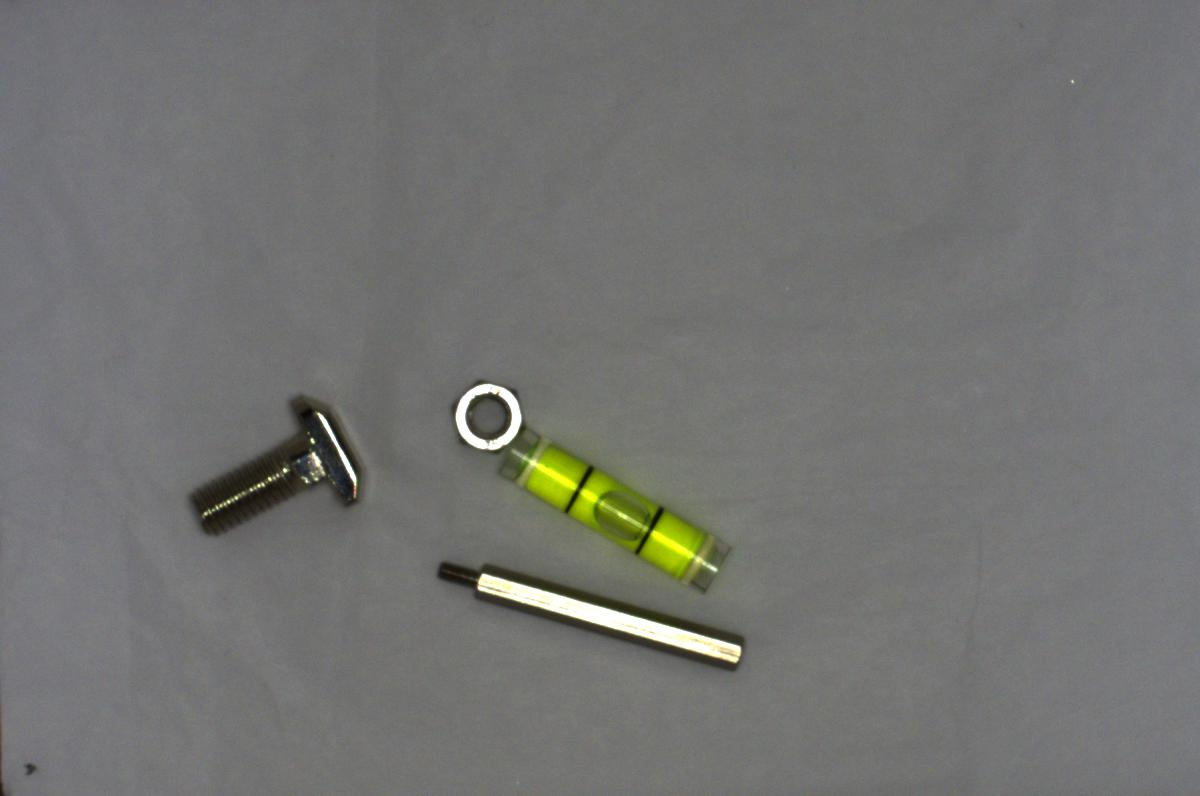Hexagon nut: (442, 372, 528, 454)
Hexagonal steel column: (433, 556, 750, 668)
Horizontal bubble: (499, 421, 733, 592)
T-shaped screw: (179, 381, 372, 536)
